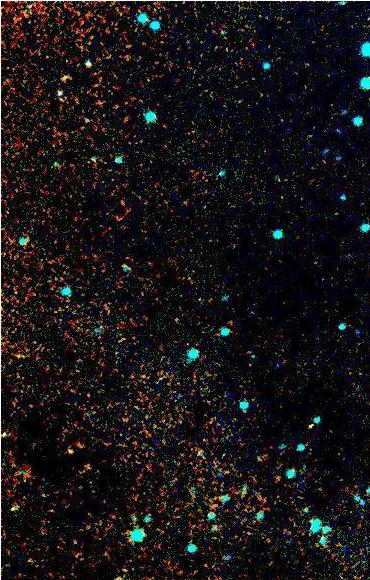star: (142, 429, 172, 459)
